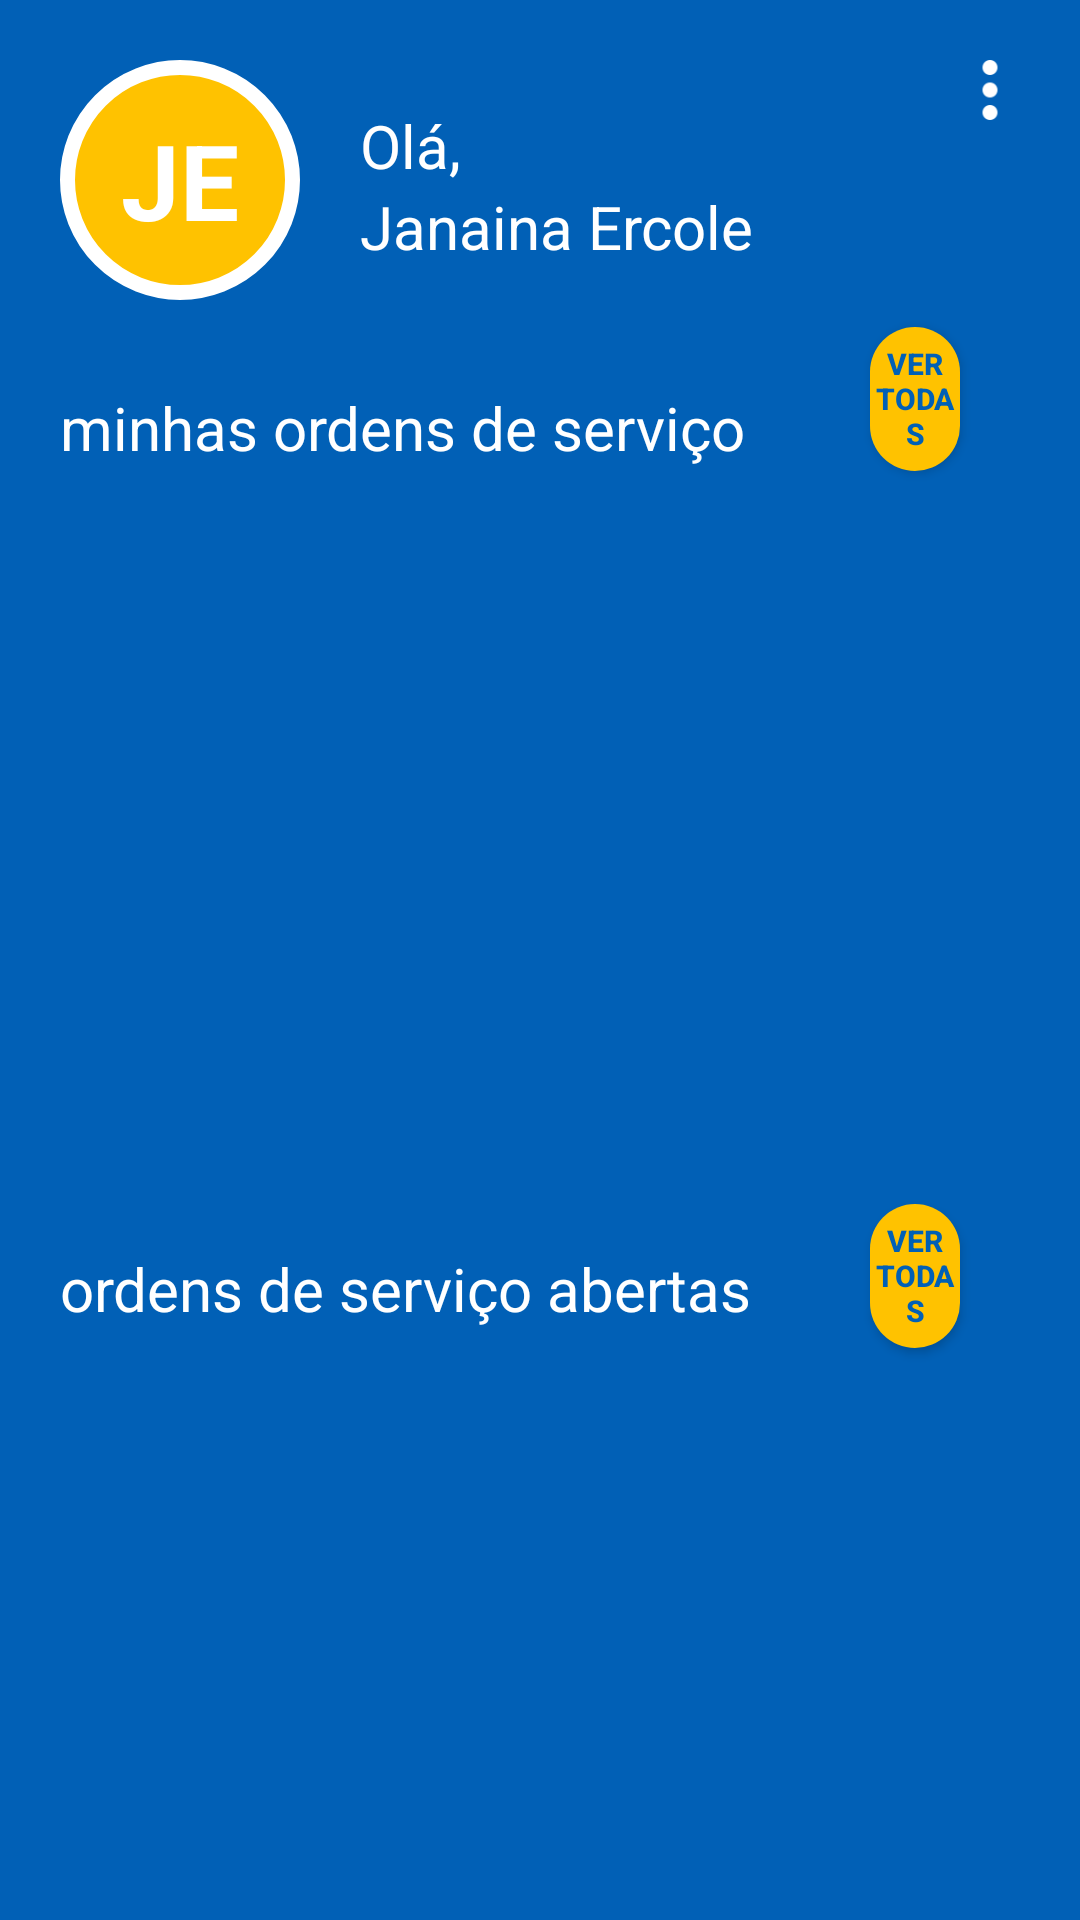

Screen size 1080 × 1920. Icon name, then its box in pixels as (x1, y1, x2, y2):
container user: (60, 60, 300, 300)
menuopcoesbranco: (982, 60, 998, 120)
